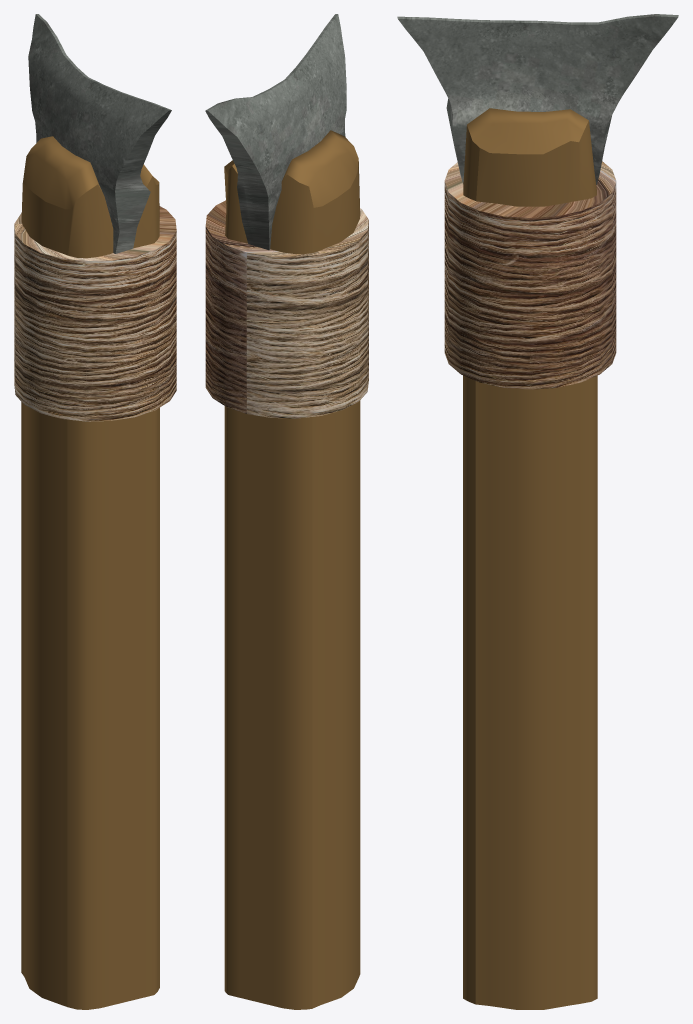
The model's file is pil.fbx.
3 renders of one model, left to right at view 1: azimuth 30°, elevation 25°; view 2: azimuth 150°, elevation 25°; view 3: azimuth 270°, elevation 25°, orthographic. The views are drawn at different scales.
Visible parts, largest first — view 1: pCube4; view 2: pCube4; view 3: pCube4.
Boxes of the visible parts, bbox=[...] form: pCube4: bbox=[14, 14, 176, 1009]; pCube4: bbox=[205, 14, 368, 1009]; pCube4: bbox=[397, 14, 678, 1009].
Bounding box in the file's own units: 55.27 × 339 × 88.64.
3 materials, 2 textured.
